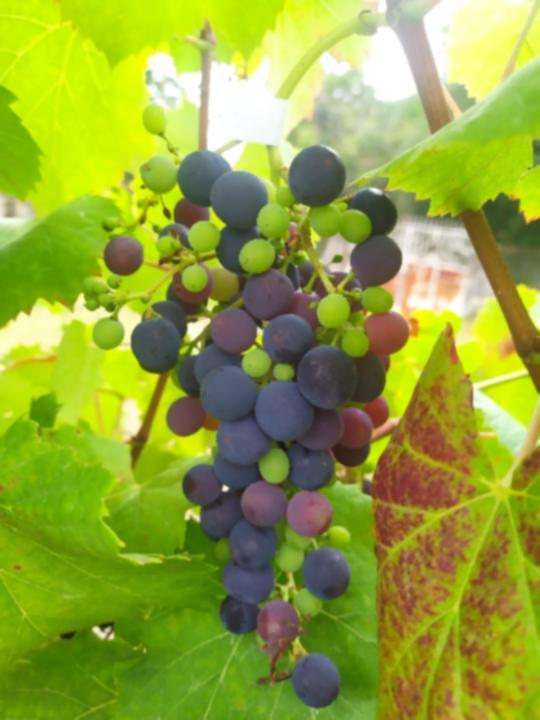grape: (80, 99, 414, 712)
